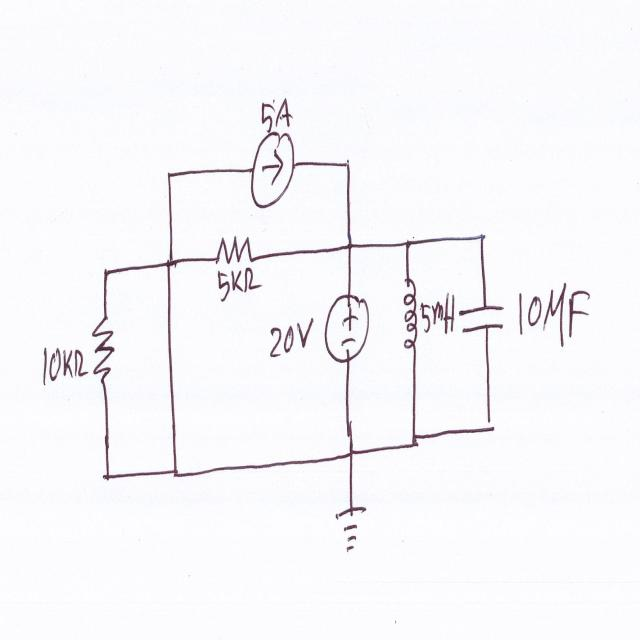ground: (335, 502, 370, 556)
